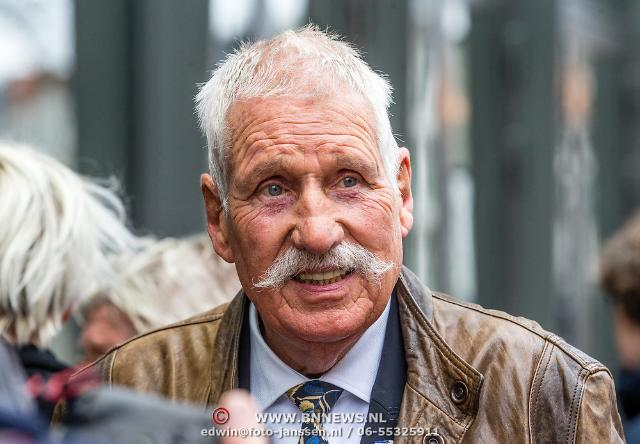crows_feet: (363, 177, 389, 209), (232, 194, 255, 226)
forehead: (284, 121, 340, 149), (235, 124, 277, 160), (346, 114, 379, 158)
frown_line: (301, 151, 325, 172)
gummy_smile: (273, 222, 295, 264), (336, 219, 364, 245)
sad_smile: (359, 274, 375, 310), (275, 286, 293, 310)
